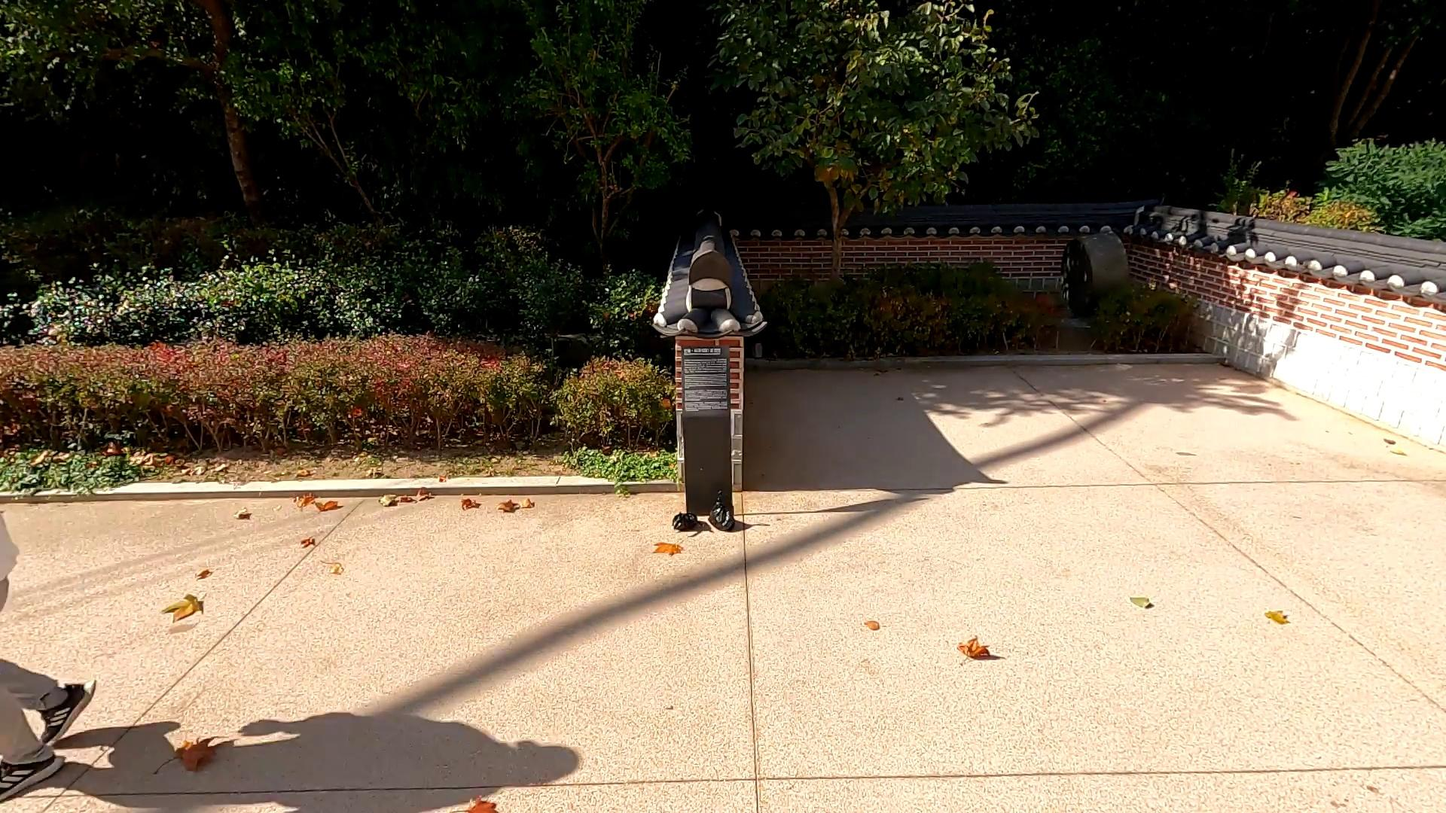trash: (710, 491, 734, 532), (671, 512, 700, 533)
